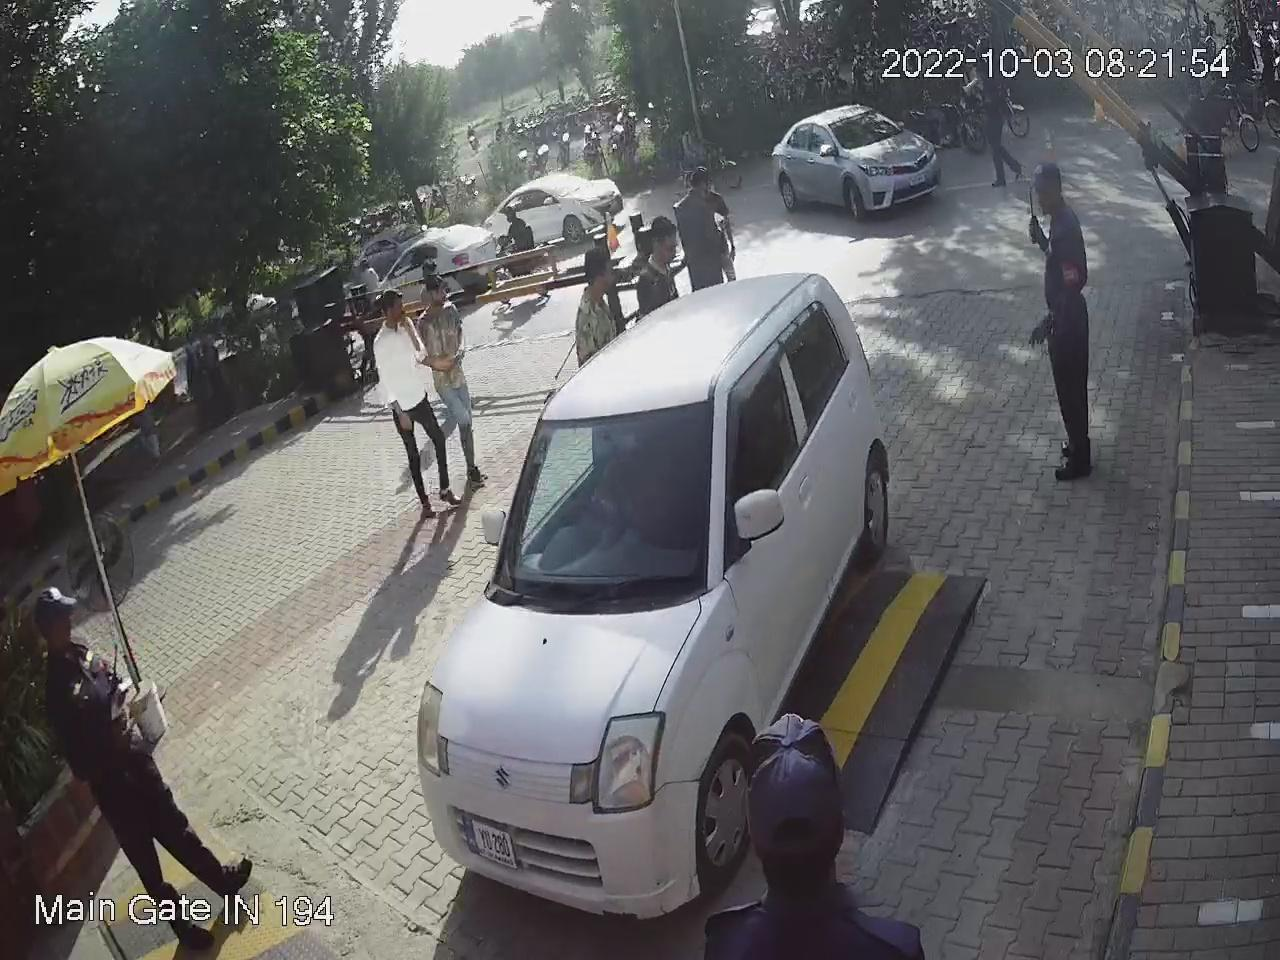windshield: (481, 385, 716, 602)
